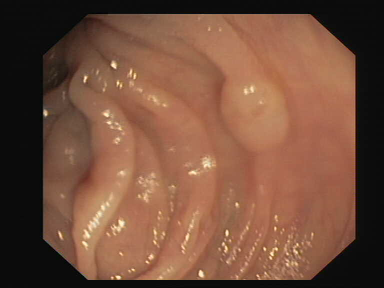polyp: (209, 55, 305, 161)
